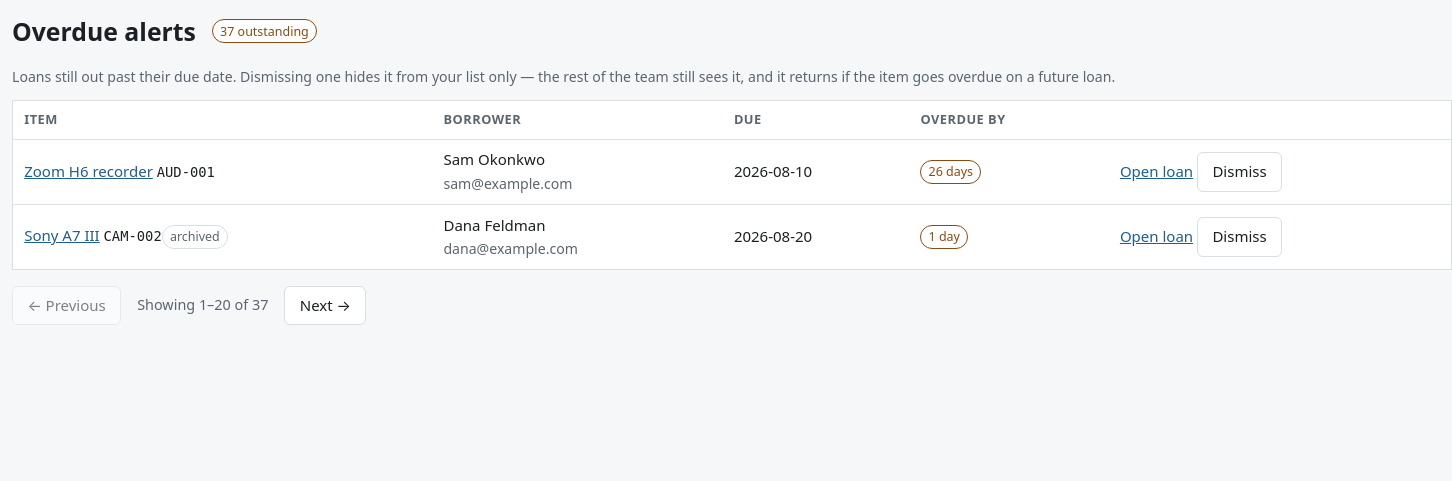
dismissing an alert › shows the 409 when the loan is no longer overdue
This screenshot has width=1452, height=481.
Click the button "Dismiss" in the row of "Zoom H6 recorder". click: (1240, 172)
box: x1=1197 y1=152 x2=1282 y2=192
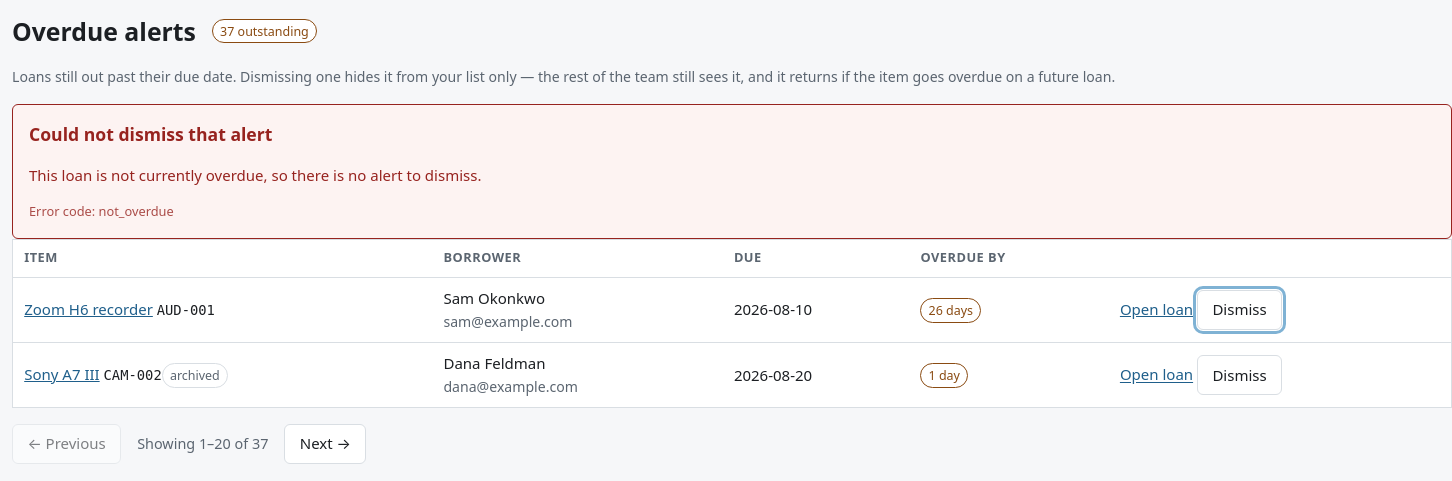
Expected: the message shows "This loan is not currently overdue", x1=29 y1=164 x2=481 y2=184
Expected: the message shows "Error code: not_overdue", x1=12 y1=104 x2=1451 y2=238
